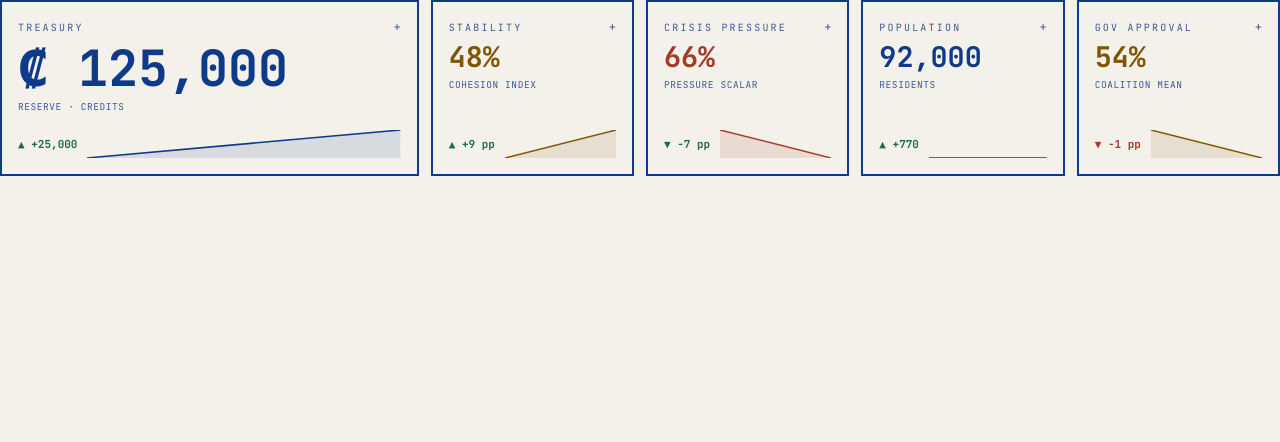
Scenario: VitalSigns (Command parity) › surfaces births and projected growth rate in the population drill-down
The width and height of the screenshot is (1280, 442).
Expected: the text "Population" is shown, [879, 20, 961, 34]
Click the button "Population + 92,000 Residents ▲ +770".
click(963, 88)  # box [861, 0, 1065, 176]
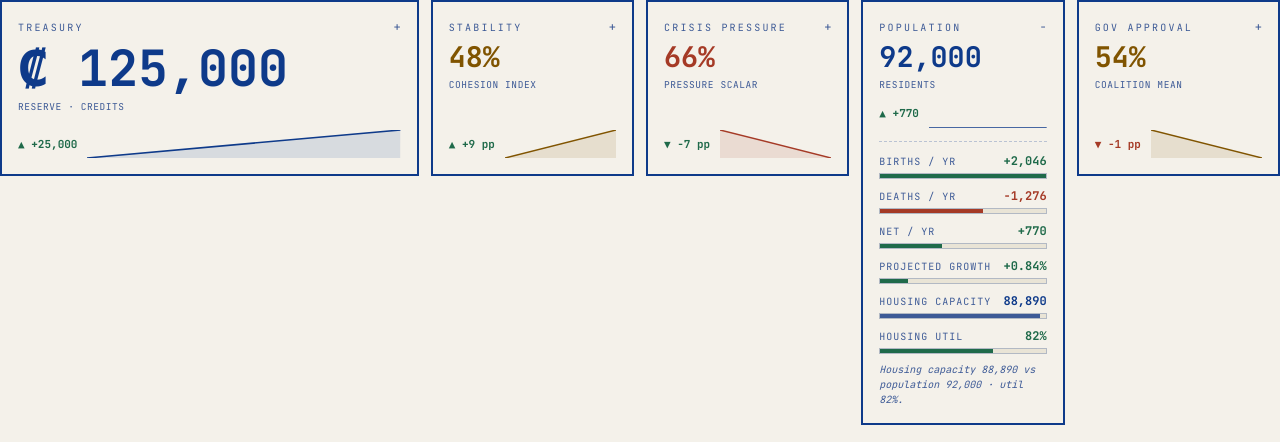
Expected: the text "Births / yr" is shown, [879, 155, 956, 168]
Expected: the text "+2,046" is shown, [1004, 152, 1047, 170]
Expected: the text "Projected growth" is shown, [879, 259, 993, 274]
